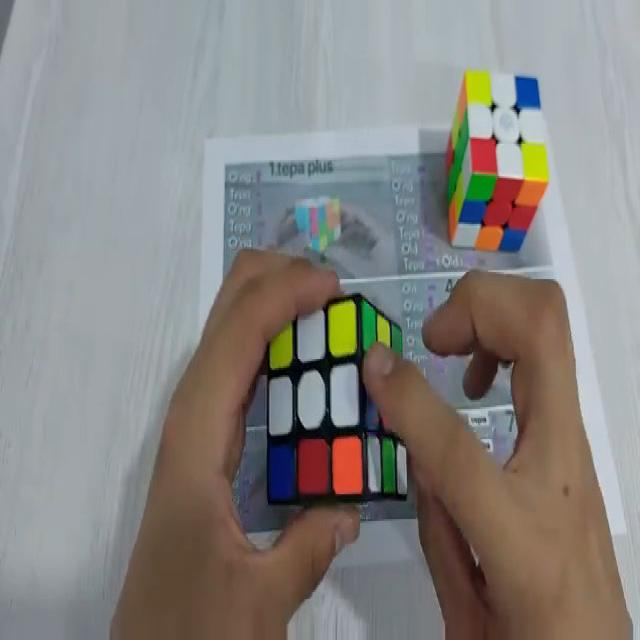Rub: (266, 292, 411, 506), (445, 68, 550, 255)
